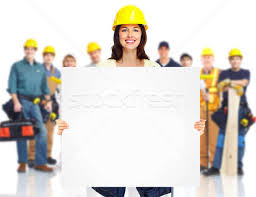Person_wearing_helmet: (110, 4, 152, 32)
